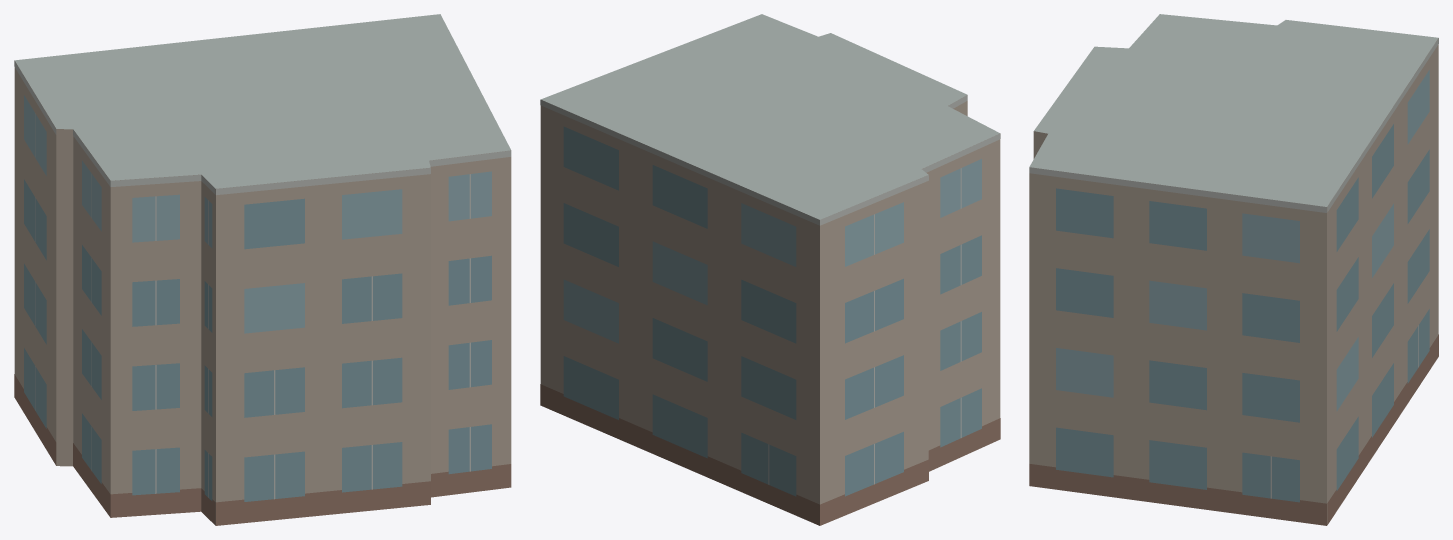
The model's file is survey-upis-32633000.glb.
3 views of the same model, side by side, from view 1: azimuth 30°, elevation 25°; view 2: azimuth 150°, elevation 25°; view 3: azimuth 270°, elevation 25° (orthographic). The views are drawn at different scales.
Parts seen in each view (by area): view 1: survey-upis-32633000.tmp; view 2: survey-upis-32633000.tmp; view 3: survey-upis-32633000.tmp.
Boxes of the visible parts, x1,y1,x2,y2 form: survey-upis-32633000.tmp: (14, 14, 511, 525); survey-upis-32633000.tmp: (540, 14, 1000, 525); survey-upis-32633000.tmp: (1029, 14, 1438, 525).
Size of the model in its own units: 16.63 by 12.8 by 14.91.
